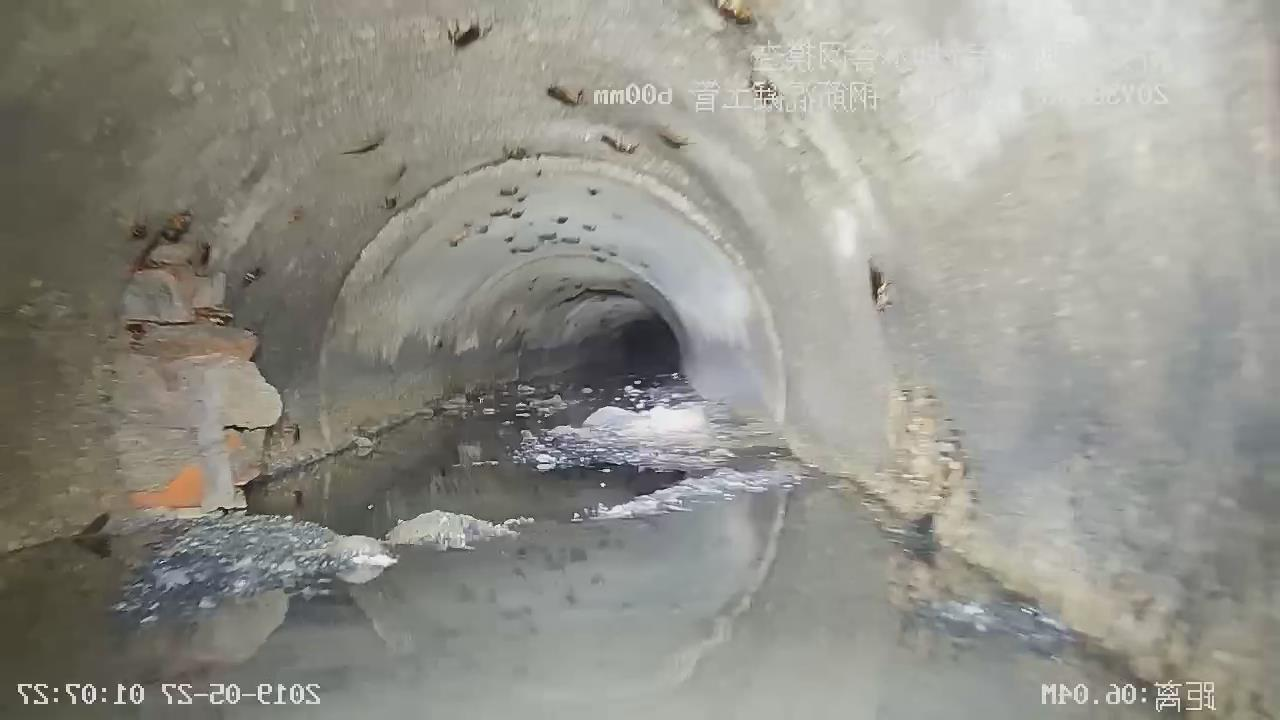CJ: (441, 374, 809, 522), (118, 507, 535, 624)
CKTJ: (314, 149, 790, 451)
CQBG: (115, 215, 282, 513)
